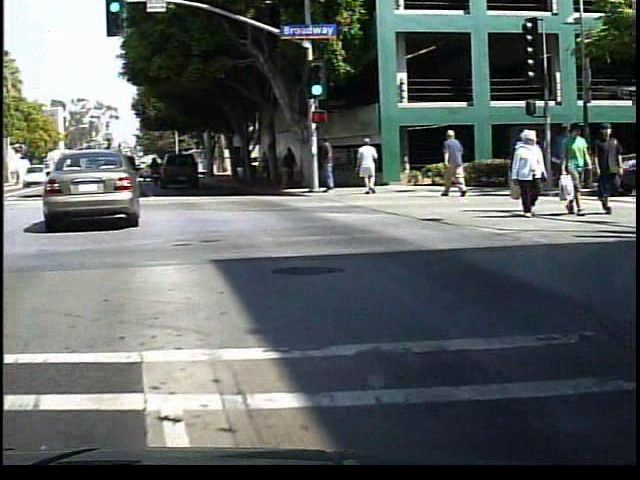person: (509, 128, 554, 217), (561, 121, 595, 218), (596, 121, 625, 217), (443, 127, 475, 197), (360, 138, 386, 198), (323, 133, 345, 200), (287, 143, 307, 191), (264, 149, 283, 189)
